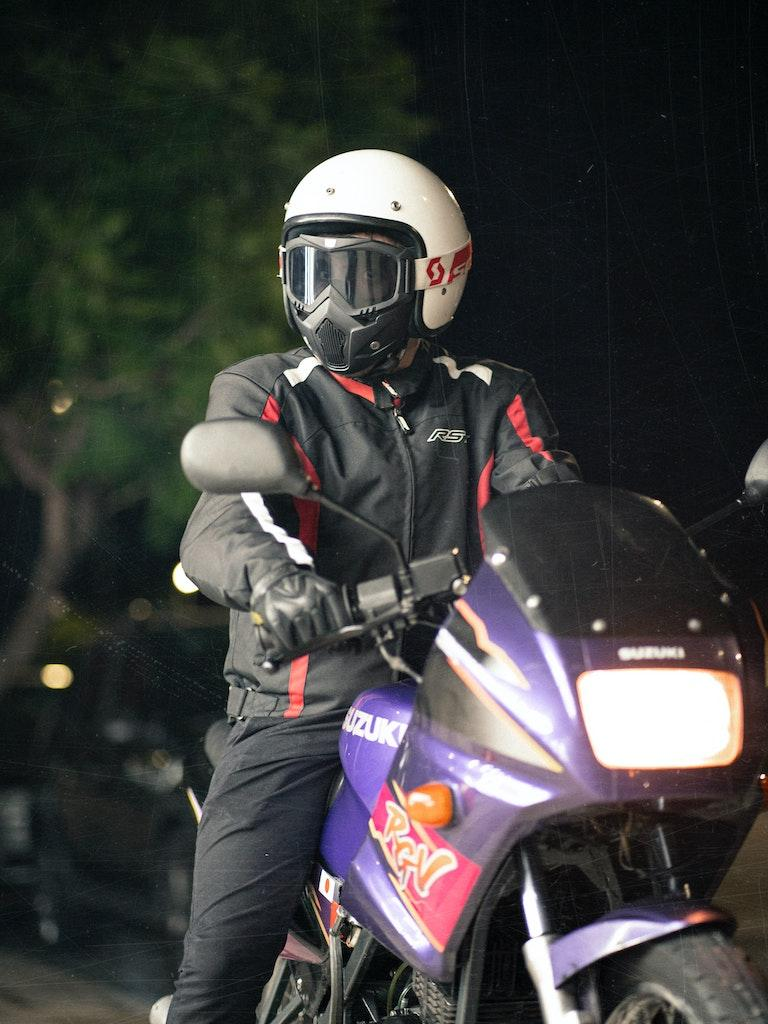helmet: (276, 147, 473, 385)
